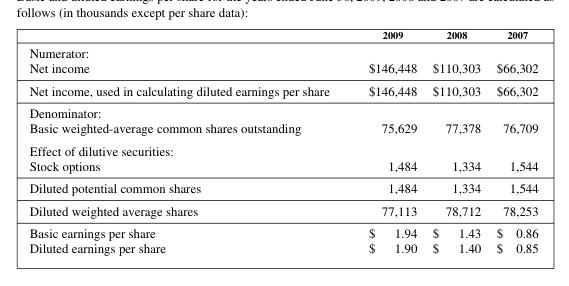table: (28, 28, 537, 255)
table column: (28, 28, 348, 255), (348, 28, 424, 255), (424, 28, 488, 255), (488, 28, 537, 255)
table column header: (28, 28, 537, 43)
table projected row header: (28, 101, 537, 120), (28, 139, 537, 157), (28, 43, 537, 60)
table row: (28, 78, 537, 101), (28, 176, 537, 199), (28, 199, 537, 221), (28, 101, 537, 120), (28, 120, 537, 139), (28, 157, 537, 176), (28, 221, 537, 240), (28, 60, 537, 78), (28, 139, 537, 157), (28, 43, 537, 60), (28, 28, 537, 43), (28, 240, 537, 255)
